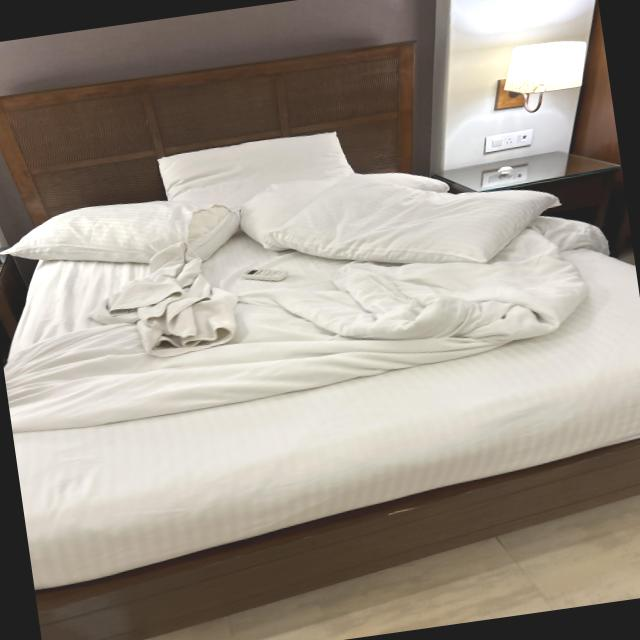mess: (0, 150, 428, 640), (189, 155, 640, 497), (402, 114, 626, 236)
